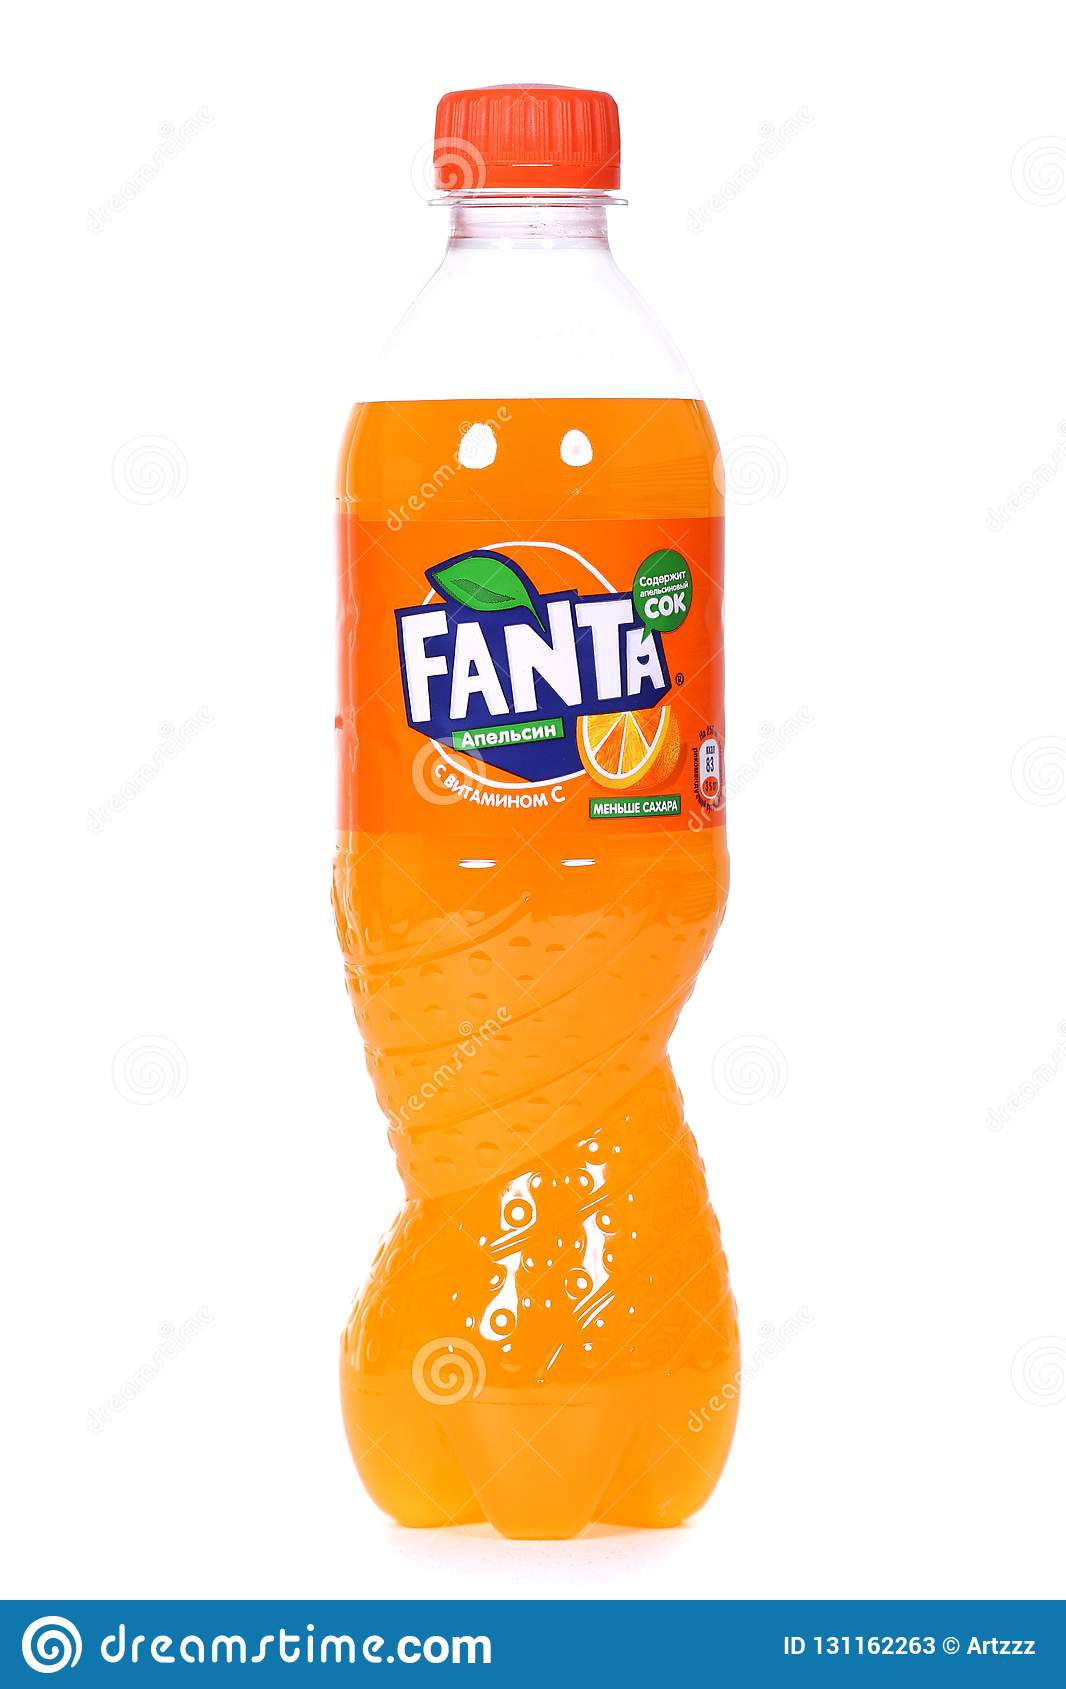Fanta: (297, 115, 765, 1554)
